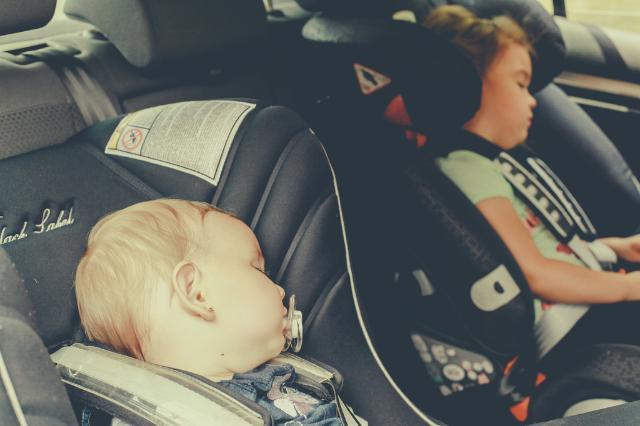Seatbelt: (46, 350, 272, 426), (22, 53, 120, 129)
